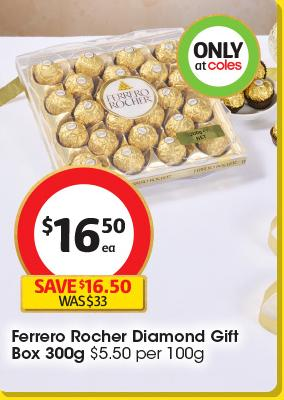description_block: (7, 323, 240, 371)
price_main: (16, 172, 148, 276)
product_image_block: (4, 22, 256, 193)
promo_text_block: (11, 273, 158, 314)
unit_price_block: (87, 343, 214, 367)
